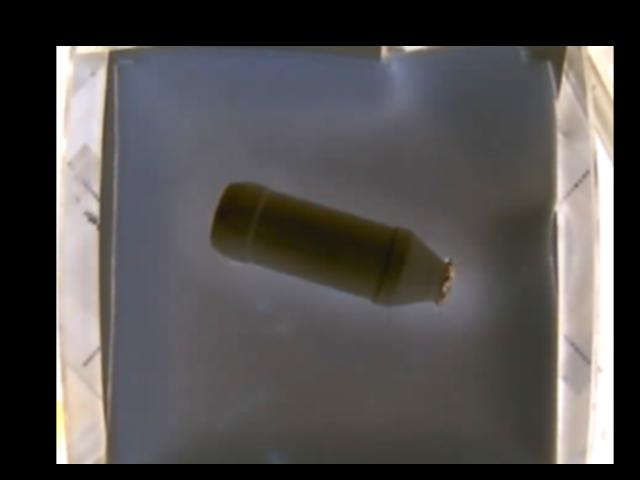Bottle: (210, 180, 454, 309)
